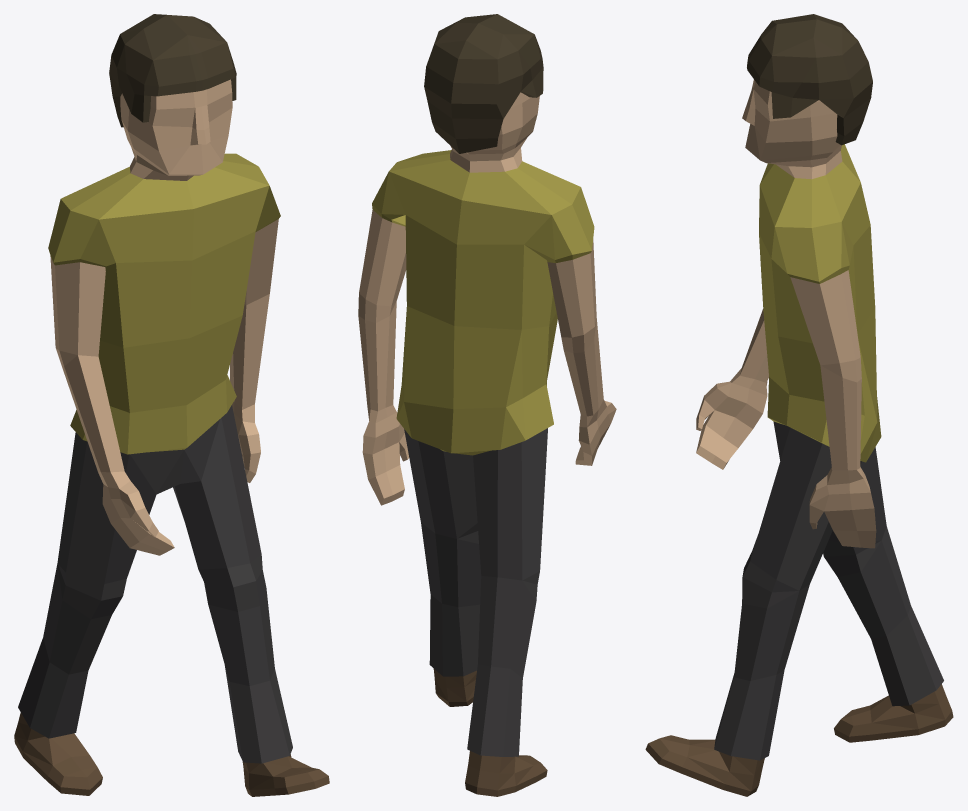
File: 58 People_Male_5.fbx
The picture shows the model from 3 angles, left to right: view 1: azimuth 30°, elevation 25°; view 2: azimuth 150°, elevation 25°; view 3: azimuth 270°, elevation 25°; orthographic projection. The views are drawn at different scales.
Parts seen in each view (by area): view 1: Male_Hairstyle25; view 2: Male_Hairstyle25; view 3: Male_Hairstyle25.
Boxes of the visible parts, x1=… form: Male_Hairstyle25: x1=14, y1=14, x2=329, y2=796; Male_Hairstyle25: x1=358, y1=14, x2=616, y2=796; Male_Hairstyle25: x1=645, y1=14, x2=953, y2=796.
Bounding box in the file's own units: 11.82 × 37.94 × 14.17.
